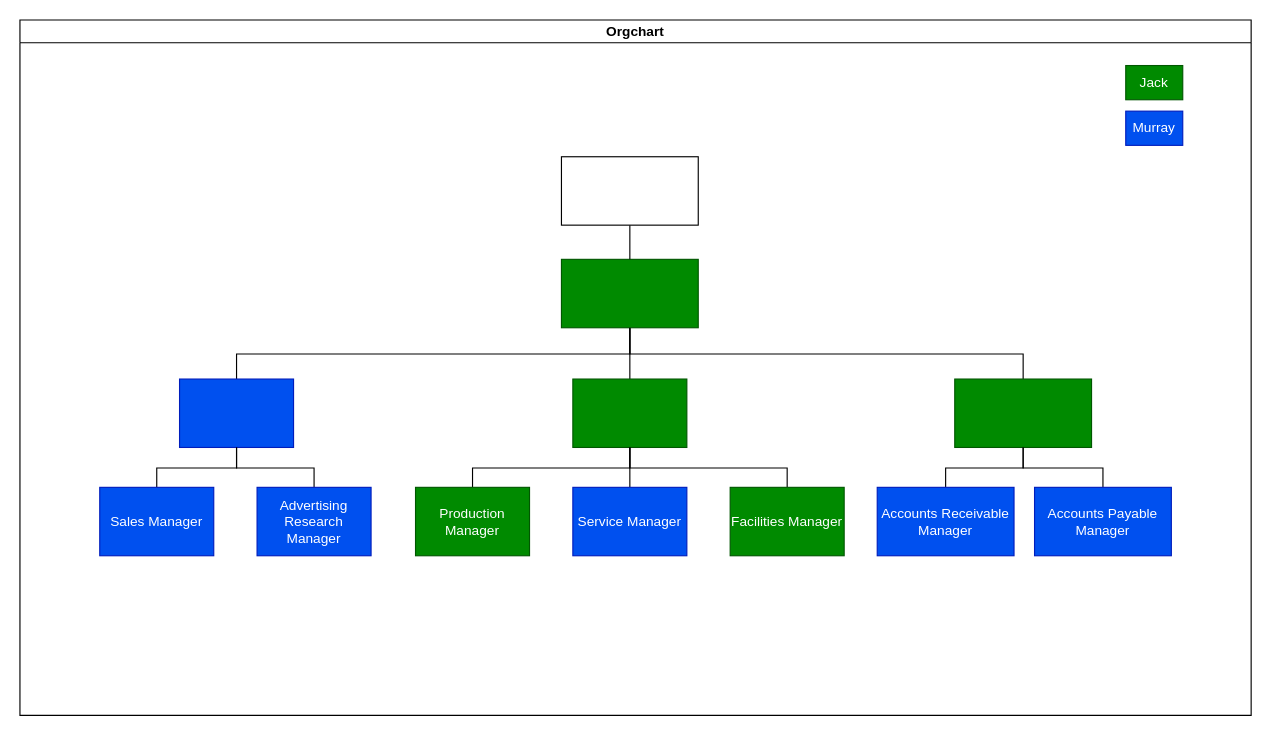
Image size: 1271x735. Some labels were removed from this diagram. Each missing label, with the centre of its shape:
"COO" goes at [629,293].
"Shareholder" goes at [629,190].
"VP Finance" goes at [1023,412].
"VP Marketing" goes at [236,412].
"VP Operations" goes at [629,412].
